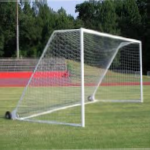goals: (14, 26, 143, 125)
